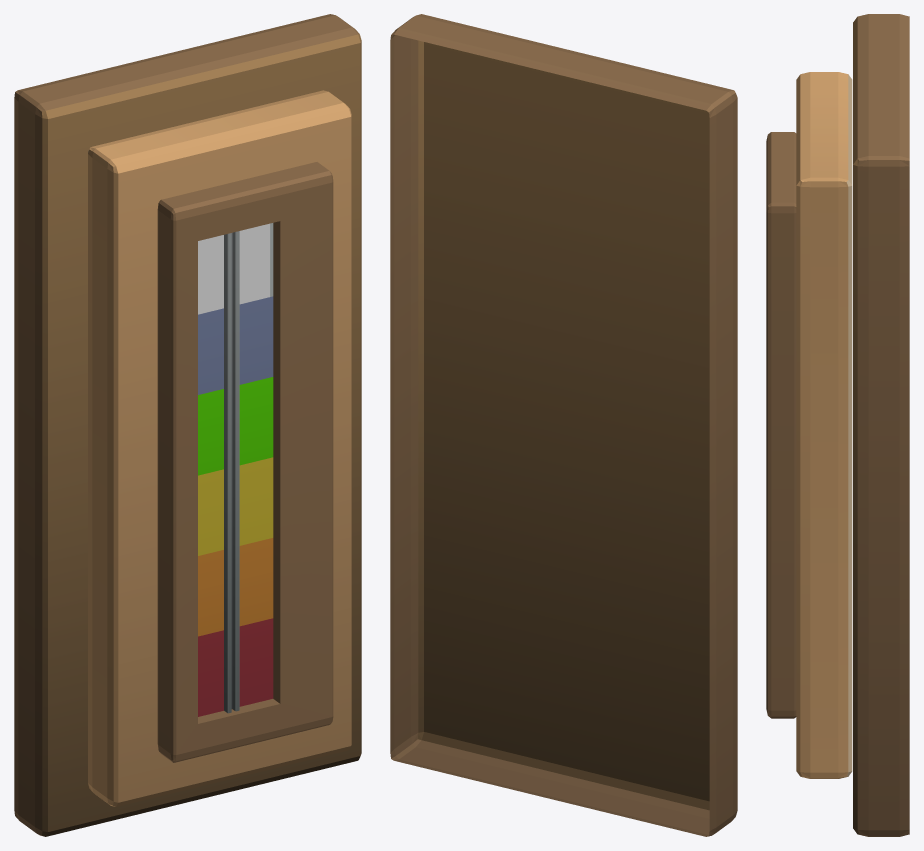
The model's file is puzzle_caduta.fbx.
The picture shows the model from 3 angles, left to right: view 1: azimuth 30°, elevation 25°; view 2: azimuth 150°, elevation 25°; view 3: azimuth 270°, elevation 25°; orthographic projection. The views are drawn at different scales.
Visible parts, largest first — view 1: puzzle_caduta; view 2: puzzle_caduta; view 3: puzzle_caduta.
Part boxes in pixels (x1,y1,x2,y2): puzzle_caduta: (14,14,361,836); puzzle_caduta: (390,14,737,836); puzzle_caduta: (766,14,909,836).
Size of the model in its own units: 10.3 by 22.36 by 4.26.
